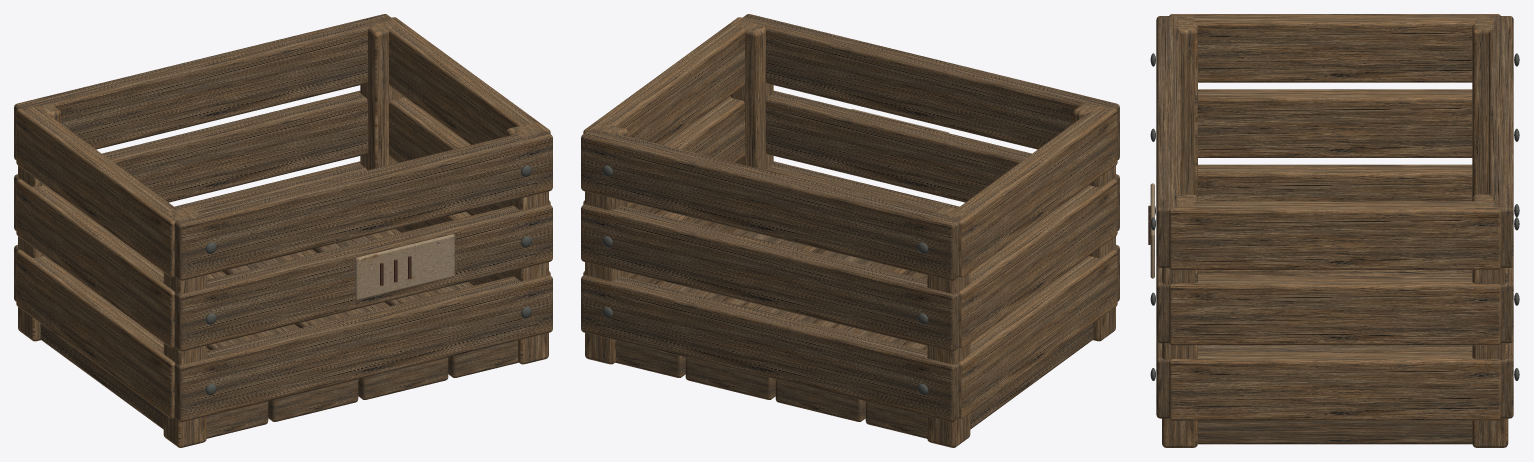
The model's file is salvage_crate.glb.
3 renders of one model, left to right at view 1: azimuth 30°, elevation 25°; view 2: azimuth 150°, elevation 25°; view 3: azimuth 270°, elevation 25°, orthographic. The views are drawn at different scales.
Parts seen in each view (by area): view 1: salvage_crate_mesh; view 2: salvage_crate_mesh; view 3: salvage_crate_mesh.
Boxes of the visible parts, x1=… form: salvage_crate_mesh: x1=14, y1=14, x2=552, y2=447; salvage_crate_mesh: x1=581, y1=14, x2=1119, y2=447; salvage_crate_mesh: x1=1148, y1=14, x2=1519, y2=447.
Size of the model in its own units: 0.845 by 0.48 by 0.67.
Materials: 5 (3 with a texture image).
